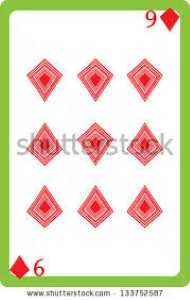NineOfDiamonds: (7, 4, 181, 280)
